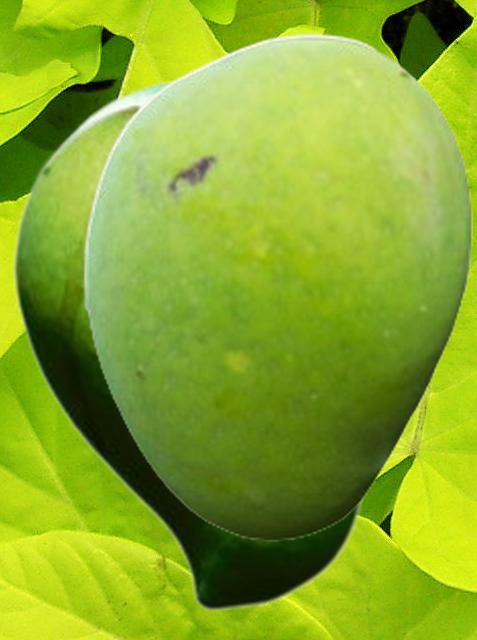green_mango: (82, 32, 471, 540), (11, 101, 365, 611)
